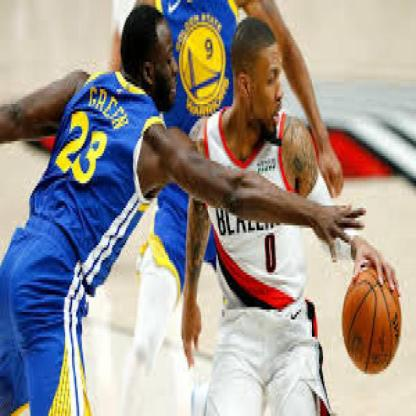basketball: (341, 265, 401, 374)
